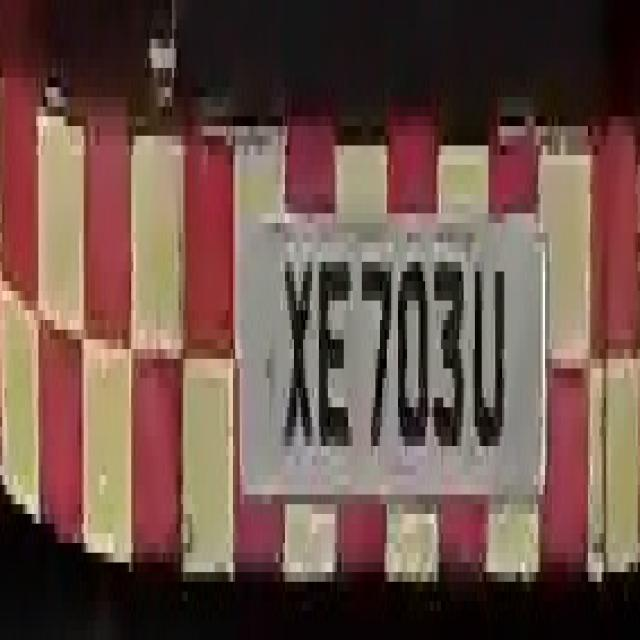0: (389, 233, 430, 475)
3: (428, 223, 463, 456)
7: (353, 213, 391, 485)
E: (314, 223, 350, 465)
U: (464, 232, 511, 494)
X: (278, 204, 314, 466)
